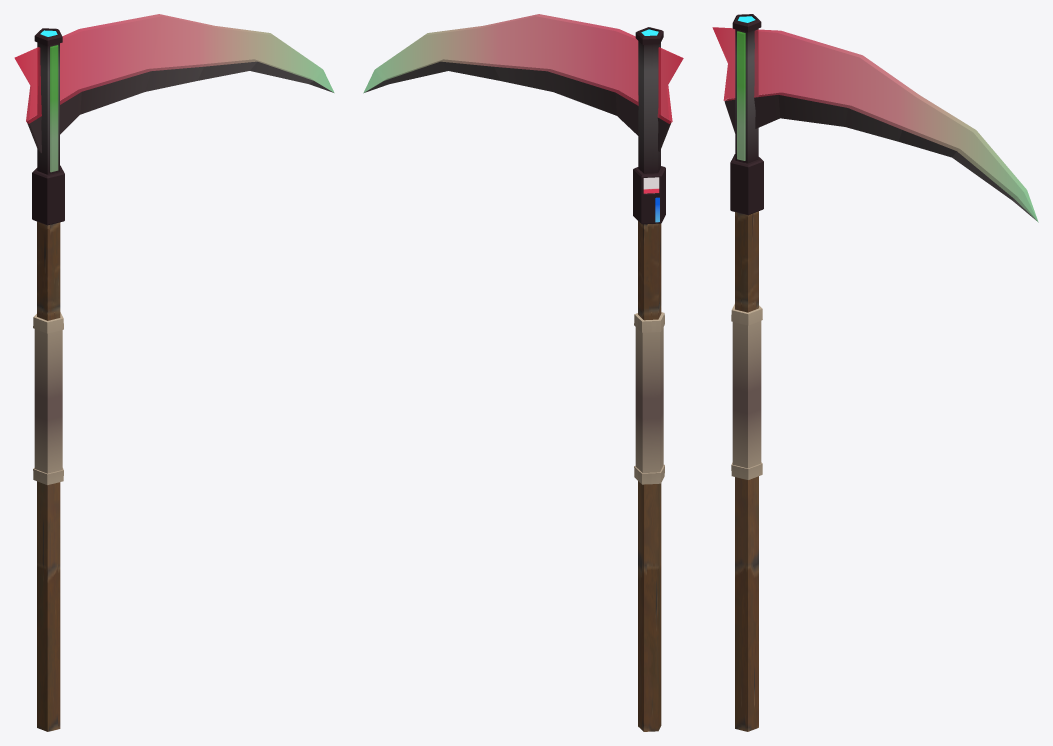
The model's file is Constance-Scythe.glb.
3 views of the same model, side by side, from view 1: azimuth 30°, elevation 25°; view 2: azimuth 150°, elevation 25°; view 3: azimuth 330°, elevation 25° (orthographic). The views are drawn at different scales.
Parts seen in each view (by area): view 1: blade1, stick, wrap, StickHead, Light1; view 2: blade1, stick, wrap, StickHead; view 3: blade1, stick, StickHead, wrap, Light1.
Part boxes in pixels (x1,y1,x2,y2): blade1: (14,14,334,153); stick: (37,221,60,731); wrap: (33,312,63,484); StickHead: (32,28,64,225); Light1: (50,45,58,172); blade1: (363,14,683,151); stick: (638,221,661,731); wrap: (634,312,664,484); StickHead: (633,27,665,224); blade1: (712,27,1038,222); stick: (735,211,758,731); StickHead: (730,14,763,215); wrap: (731,304,762,479); Light1: (737,31,745,160).
Bounding box in the file's own units: 0.5973 × 1.24 × 0.051.
Materials: 9 (8 with a texture image).
